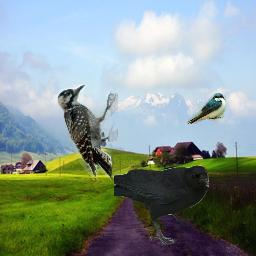Crow: (114, 165, 209, 245)
Swallow: (186, 93, 226, 124)
Woodpecker: (56, 84, 118, 181)
